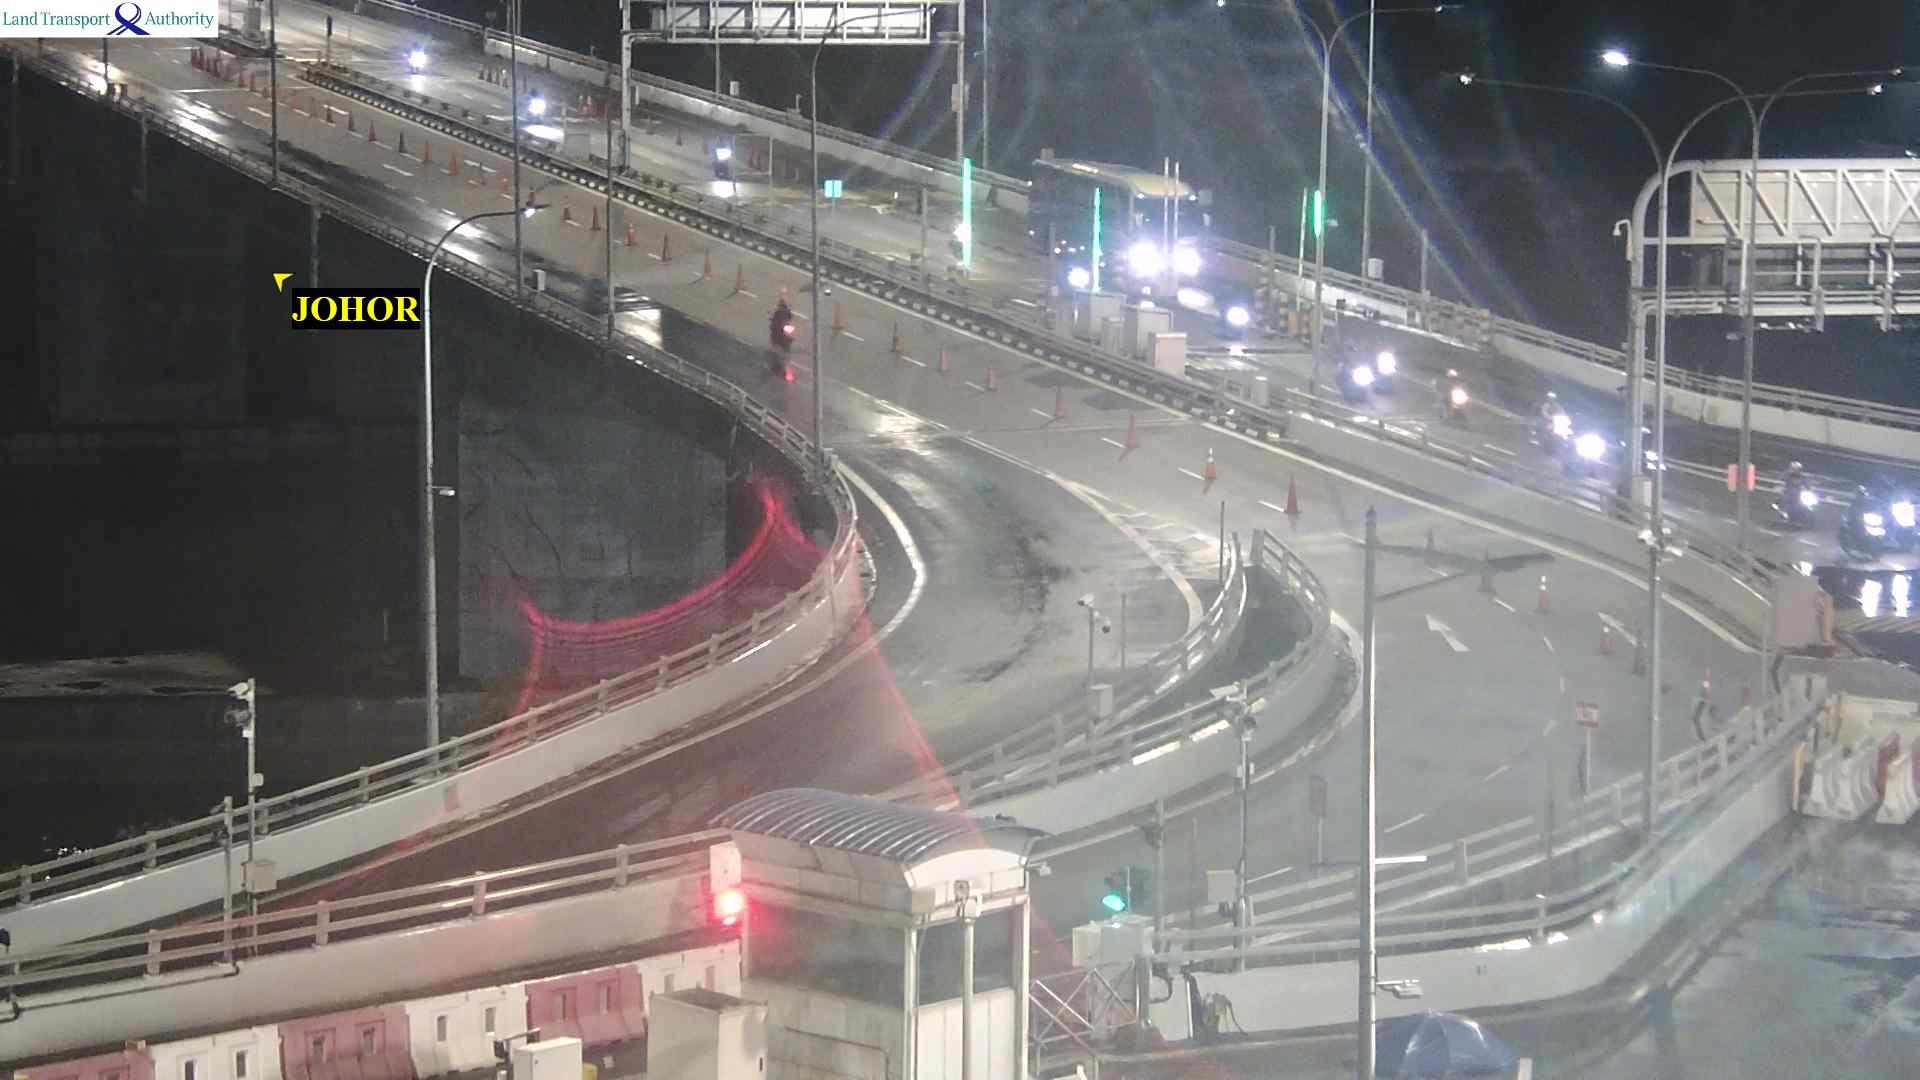vehicle-secondlink-johor: (773, 290, 802, 355)
vehicle-secondlink-singapore: (1028, 156, 1214, 294), (1774, 456, 1848, 525), (1526, 388, 1596, 455), (1857, 467, 1918, 543), (1349, 344, 1386, 405), (1447, 359, 1480, 422), (1338, 345, 1377, 391), (705, 136, 743, 179), (1224, 289, 1245, 332), (524, 90, 545, 119), (406, 42, 425, 69)
